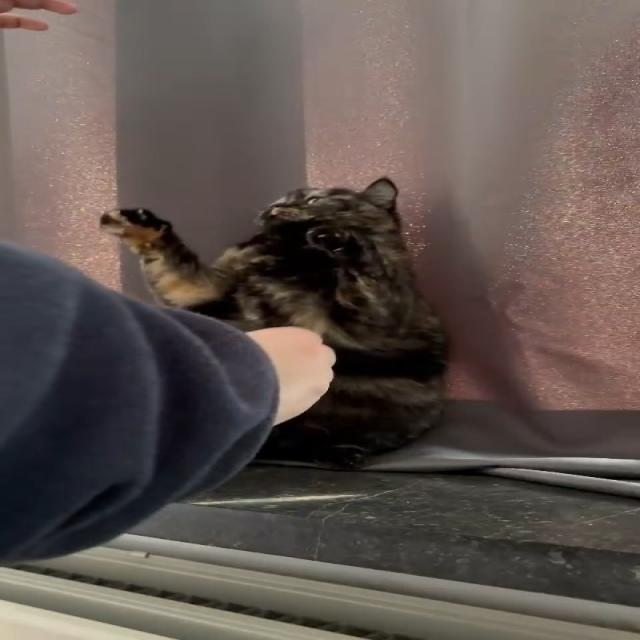authorized: (97, 176, 452, 469)
